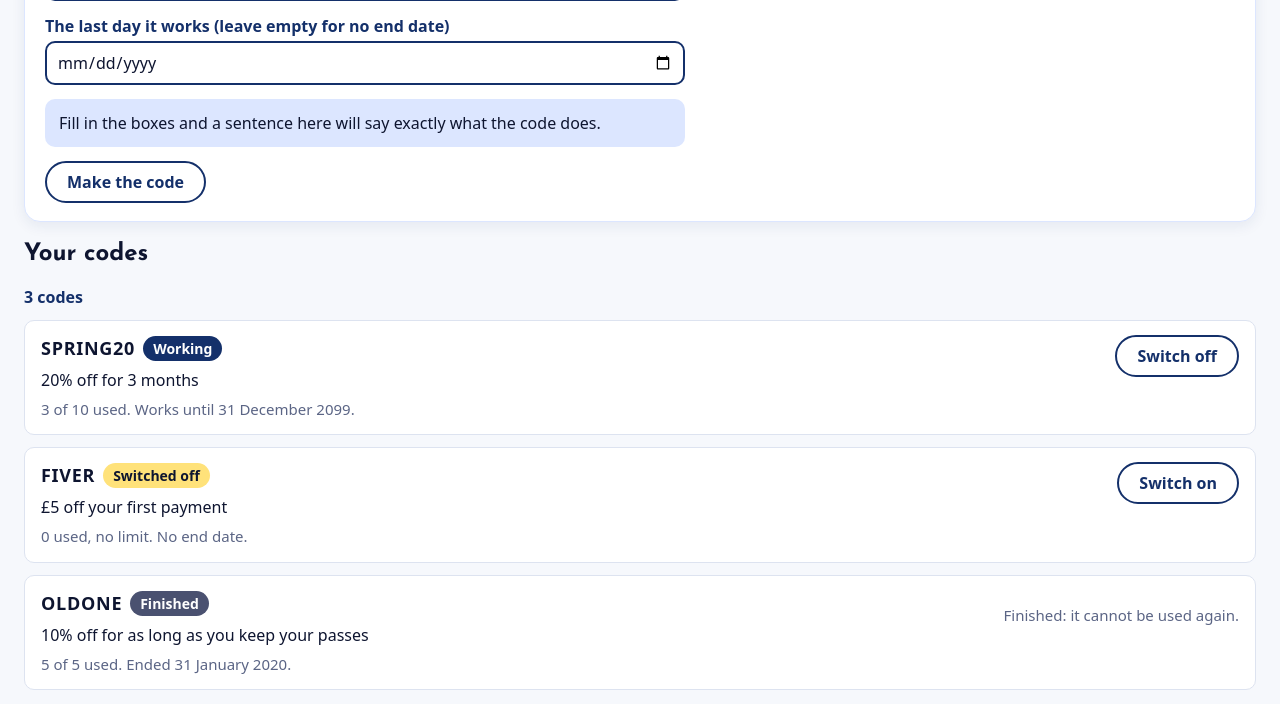
Test case: the list of codes › says plainly, in an alert, if it could not switch it, and leaves the code as it was
The width and height of the screenshot is (1280, 704).
(page scrolled)
Expected: the text "SPRING20" is shown, [41,335,135,362]
Click the button with aria-label "Switch off the code SPRING20": (1177, 356) [1116,335,1239,377]
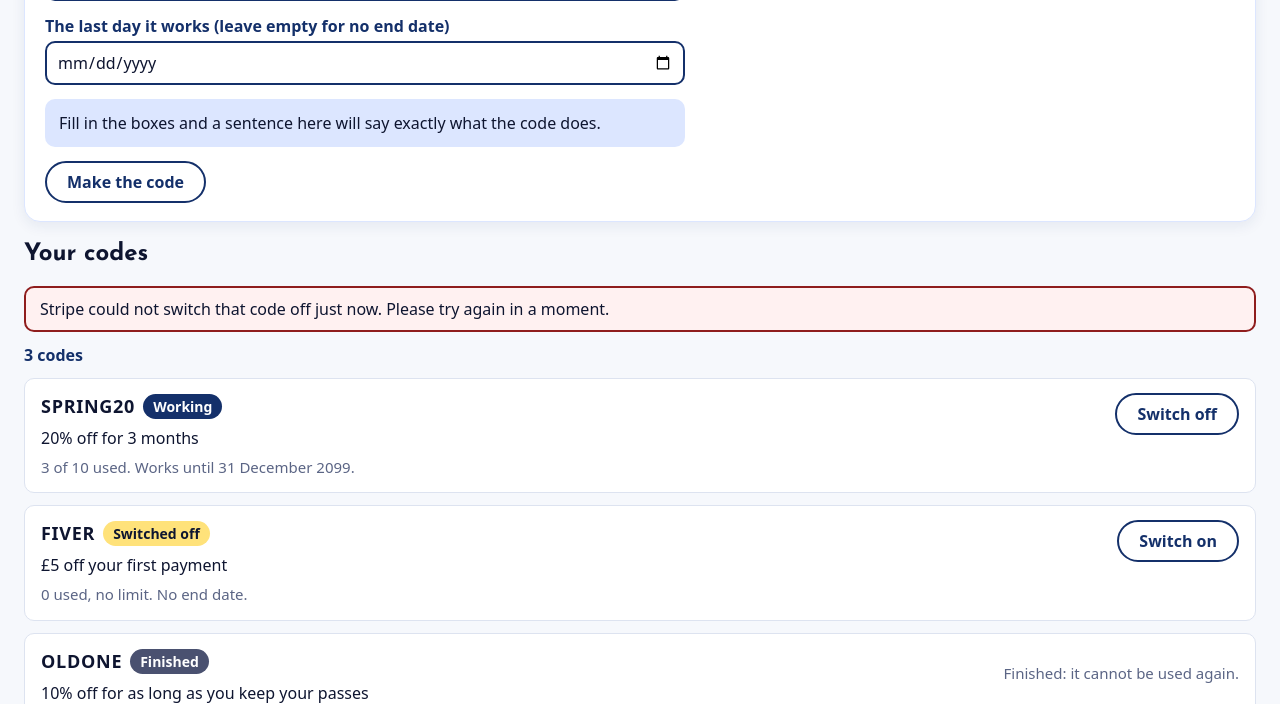
Expected: the text "Working" is shown, [143,394,222,419]
Now the message "Stripe could not switch that code off just now. Please try again in a moment." is shown, box [24,286,1256,332]
